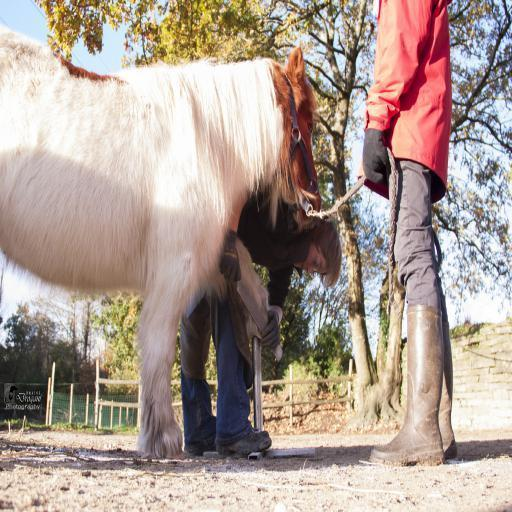horse: (0, 44, 323, 458)
